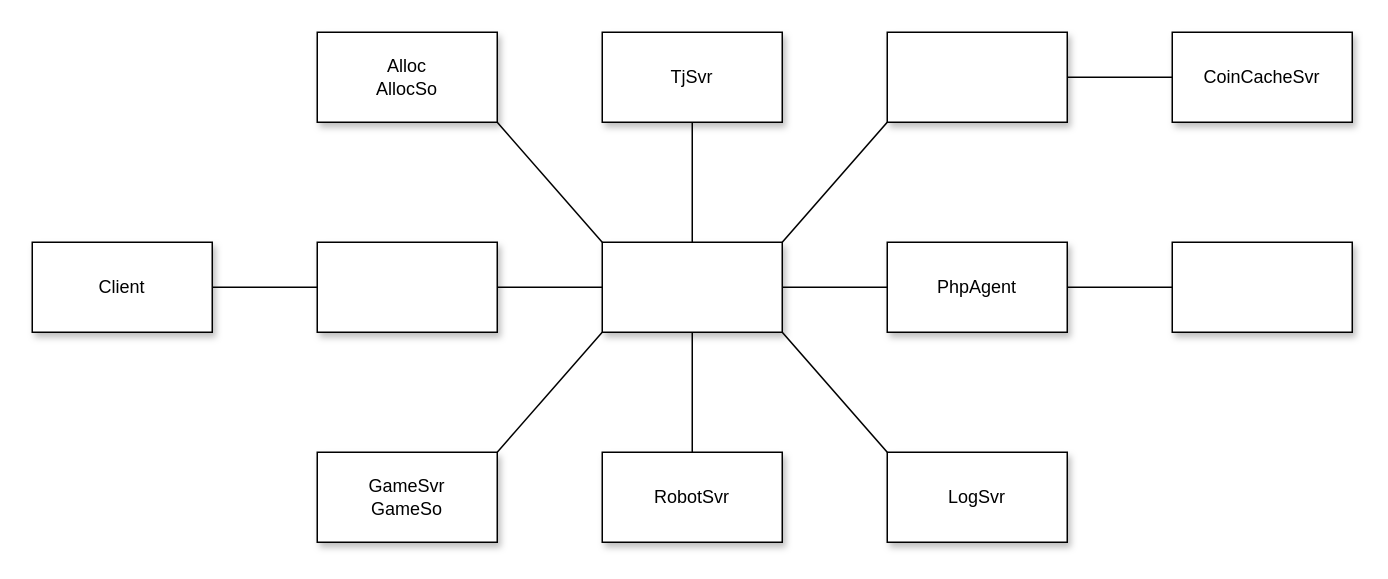
The diagram is 1388 pixels wide and 579 high, and some of its shapes have lost their labels. The shapes that lost their labels are listed below. From the top down, each one's centre as x and y in pixels, then its label:
At point (978, 79): "UserSvr".
At point (408, 289): "Access".
At point (693, 289): "Dispatch".
At point (1263, 289): "PHP".
